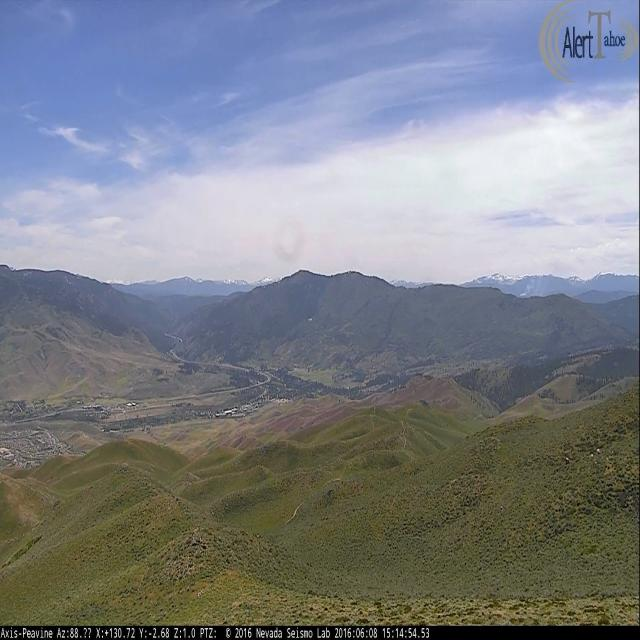smoke: (519, 277, 543, 297)
